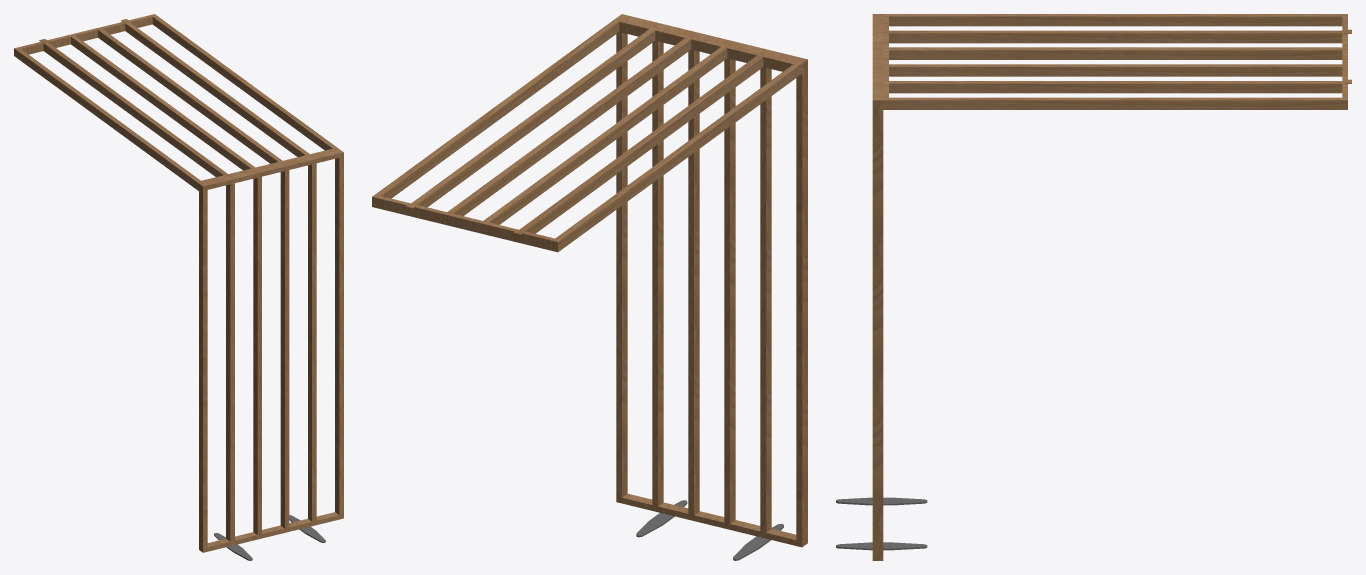
Rendered from Woodline Archway.glb.
3 renders of one model, left to right at view 1: azimuth 30°, elevation 25°; view 2: azimuth 150°, elevation 25°; view 3: azimuth 270°, elevation 25°, orthographic. The views are drawn at different scales.
Visible parts, largest first — view 1: Woodline Archway, toggle_feet_center.003; view 2: Woodline Archway, toggle_feet_center.003; view 3: Woodline Archway, toggle_feet_center.003.
Boxes of the visible parts, x1,y1,x2,y2 form: Woodline Archway: [14, 14, 343, 552]; toggle_feet_center.003: [214, 515, 325, 560]; Woodline Archway: [372, 14, 807, 547]; toggle_feet_center.003: [636, 500, 783, 560]; Woodline Archway: [872, 14, 1351, 560]; toggle_feet_center.003: [836, 497, 927, 550].
Bounding box in the file's own units: 0.9388 × 2.37 × 2.37.
Materials: 2 (1 with a texture image).
